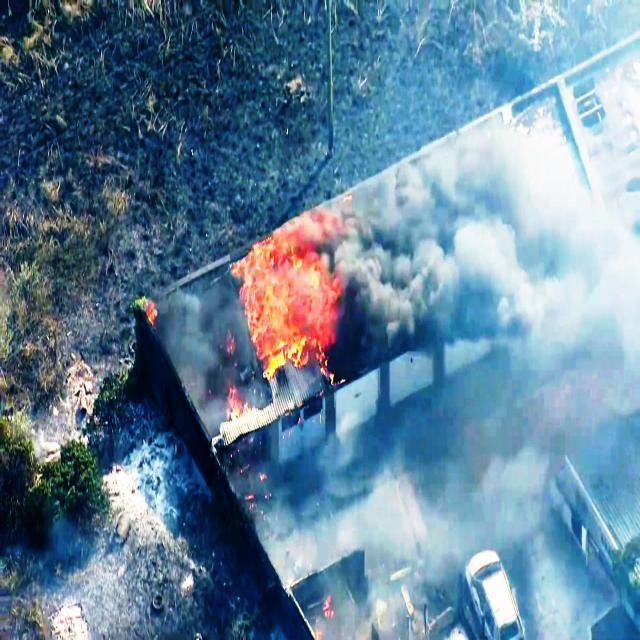Fire: (233, 218, 346, 379), (142, 296, 160, 326)
Smoke: (345, 2, 640, 390), (227, 407, 640, 640), (167, 260, 226, 398)
